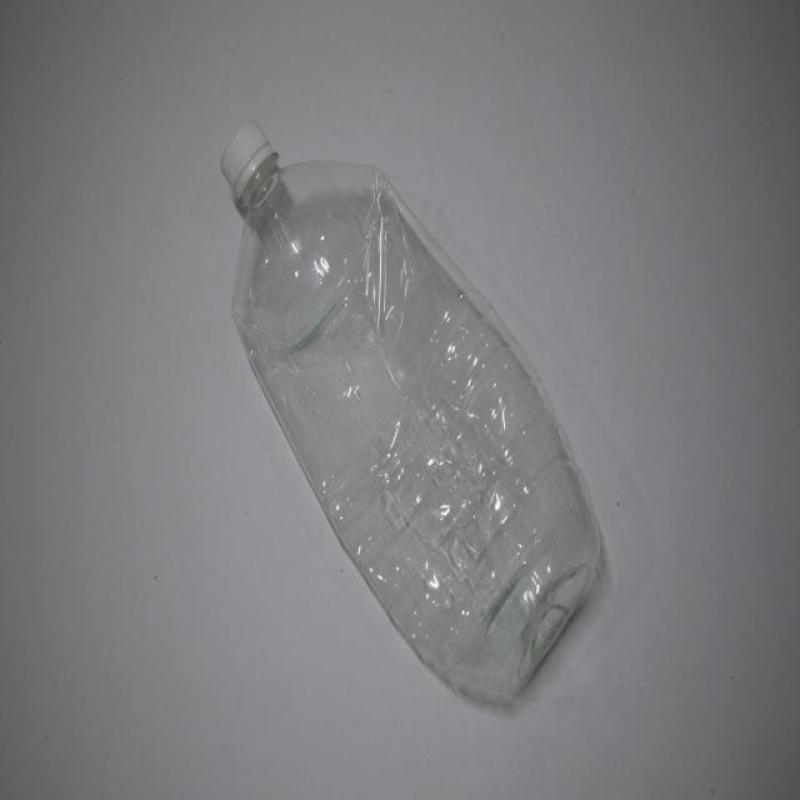botella: (217, 116, 601, 705)
